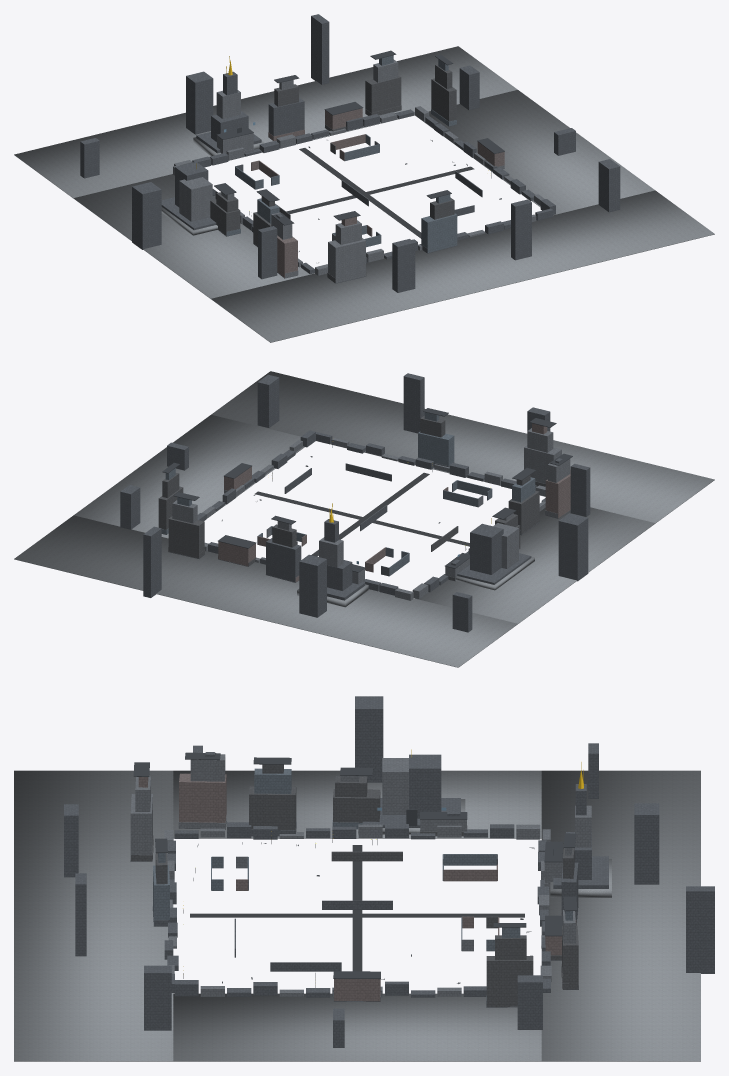
File: okujou-lod2.glb
3 views of the same model, one above another, from view 1: azimuth 30°, elevation 25°; view 2: azimuth 150°, elevation 25°; view 3: azimuth 270°, elevation 25° (orthographic). The views are drawn at different scales.
Visible parts, largest first — view 1: HB_okujou_LOD2_terrain, HB_okujou_LOD2_wall_alt, HB_okujou_LOD2_wall, HB_okujou_LOD2_wall_weathered, HB_okujou_LOD2_wall_cool, HB_okujou_LOD2_wall_warm, HB_okujou_LOD2_trim, HB_okujou_LOD2_road, HB_okujou_LOD2_LANDMARK_1_wall, HB_okujou_LOD2_LANDMARK_0_wall_alt, HB_okujou_LOD2_LANDMARK_1_wall_alt, HB_okujou_LOD2_LANDMARK_0_wall; view 2: HB_okujou_LOD2_terrain, HB_okujou_LOD2_wall_alt, HB_okujou_LOD2_wall_weathered, HB_okujou_LOD2_wall, HB_okujou_LOD2_wall_cool, HB_okujou_LOD2_wall_warm, HB_okujou_LOD2_LANDMARK_1_wall_alt, HB_okujou_LOD2_trim, HB_okujou_LOD2_road, HB_okujou_LOD2_LANDMARK_0_wall_alt, HB_okujou_LOD2_LANDMARK_1_wall, HB_okujou_LOD2_LANDMARK_0_wall (+1 smaller); view 3: HB_okujou_LOD2_terrain, HB_okujou_LOD2_wall_alt, HB_okujou_LOD2_wall_weathered, HB_okujou_LOD2_wall, HB_okujou_LOD2_wall_warm, HB_okujou_LOD2_trim, HB_okujou_LOD2_wall_cool, HB_okujou_LOD2_road, HB_okujou_LOD2_LANDMARK_1_wall_alt, HB_okujou_LOD2_LANDMARK_0_wall_alt, HB_okujou_LOD2_LANDMARK_1_wall, HB_okujou_LOD2_LANDMARK_0_wall.
Part boxes in pixels (left/top/right/bottom): HB_okujou_LOD2_terrain: left=14, top=46, right=714, bottom=342; HB_okujou_LOD2_wall_alt: left=80, top=14, right=620, bottom=292; HB_okujou_LOD2_wall: left=173, top=59, right=544, bottom=282; HB_okujou_LOD2_wall_weathered: left=210, top=64, right=456, bottom=282; HB_okujou_LOD2_wall_cool: left=226, top=55, right=457, bottom=252; HB_okujou_LOD2_wall_warm: left=251, top=108, right=504, bottom=277; HB_okujou_LOD2_trim: left=212, top=50, right=504, bottom=262; HB_okujou_LOD2_road: left=286, top=148, right=474, bottom=238; HB_okujou_LOD2_LANDMARK_1_wall: left=179, top=177, right=212, bottom=221; HB_okujou_LOD2_LANDMARK_0_wall_alt: left=196, top=71, right=261, bottom=153; HB_okujou_LOD2_LANDMARK_1_wall_alt: left=161, top=162, right=216, bottom=230; HB_okujou_LOD2_LANDMARK_0_wall: left=216, top=90, right=240, bottom=118; HB_okujou_LOD2_terrain: left=14, top=371, right=714, bottom=667; HB_okujou_LOD2_wall_alt: left=120, top=373, right=590, bottom=632; HB_okujou_LOD2_wall_weathered: left=158, top=415, right=545, bottom=580; HB_okujou_LOD2_wall: left=172, top=428, right=570, bottom=600; HB_okujou_LOD2_wall_cool: left=161, top=412, right=535, bottom=576; HB_okujou_LOD2_wall_warm: left=218, top=423, right=570, bottom=581; HB_okujou_LOD2_LANDMARK_1_wall_alt: left=457, top=523, right=531, bottom=584; HB_okujou_LOD2_trim: left=162, top=408, right=572, bottom=572; HB_okujou_LOD2_road: left=255, top=472, right=469, bottom=556; HB_okujou_LOD2_LANDMARK_0_wall_alt: left=324, top=519, right=365, bottom=600; HB_okujou_LOD2_LANDMARK_1_wall: left=493, top=523, right=518, bottom=568; HB_okujou_LOD2_LANDMARK_0_wall: left=319, top=537, right=343, bottom=567; HB_okujou_LOD2_terrain: left=14, top=770, right=700, bottom=1061; HB_okujou_LOD2_wall_alt: left=64, top=696, right=714, bottom=1047; HB_okujou_LOD2_wall_weathered: left=131, top=764, right=578, bottom=1006; HB_okujou_LOD2_wall: left=130, top=754, right=575, bottom=1000; HB_okujou_LOD2_wall_warm: left=138, top=773, right=576, bottom=1001; HB_okujou_LOD2_trim: left=133, top=752, right=577, bottom=987; HB_okujou_LOD2_wall_cool: left=153, top=768, right=572, bottom=1006; HB_okujou_LOD2_road: left=190, top=845, right=524, bottom=971; HB_okujou_LOD2_LANDMARK_1_wall_alt: left=362, top=754, right=460, bottom=827; HB_okujou_LOD2_LANDMARK_0_wall_alt: left=553, top=784, right=608, bottom=888; HB_okujou_LOD2_LANDMARK_1_wall: left=382, top=758, right=408, bottom=814; HB_okujou_LOD2_LANDMARK_0_wall: left=575, top=805, right=591, bottom=847.
Size of the model in its own units: 561 by 109 by 571.
11 materials, 9 textured.
